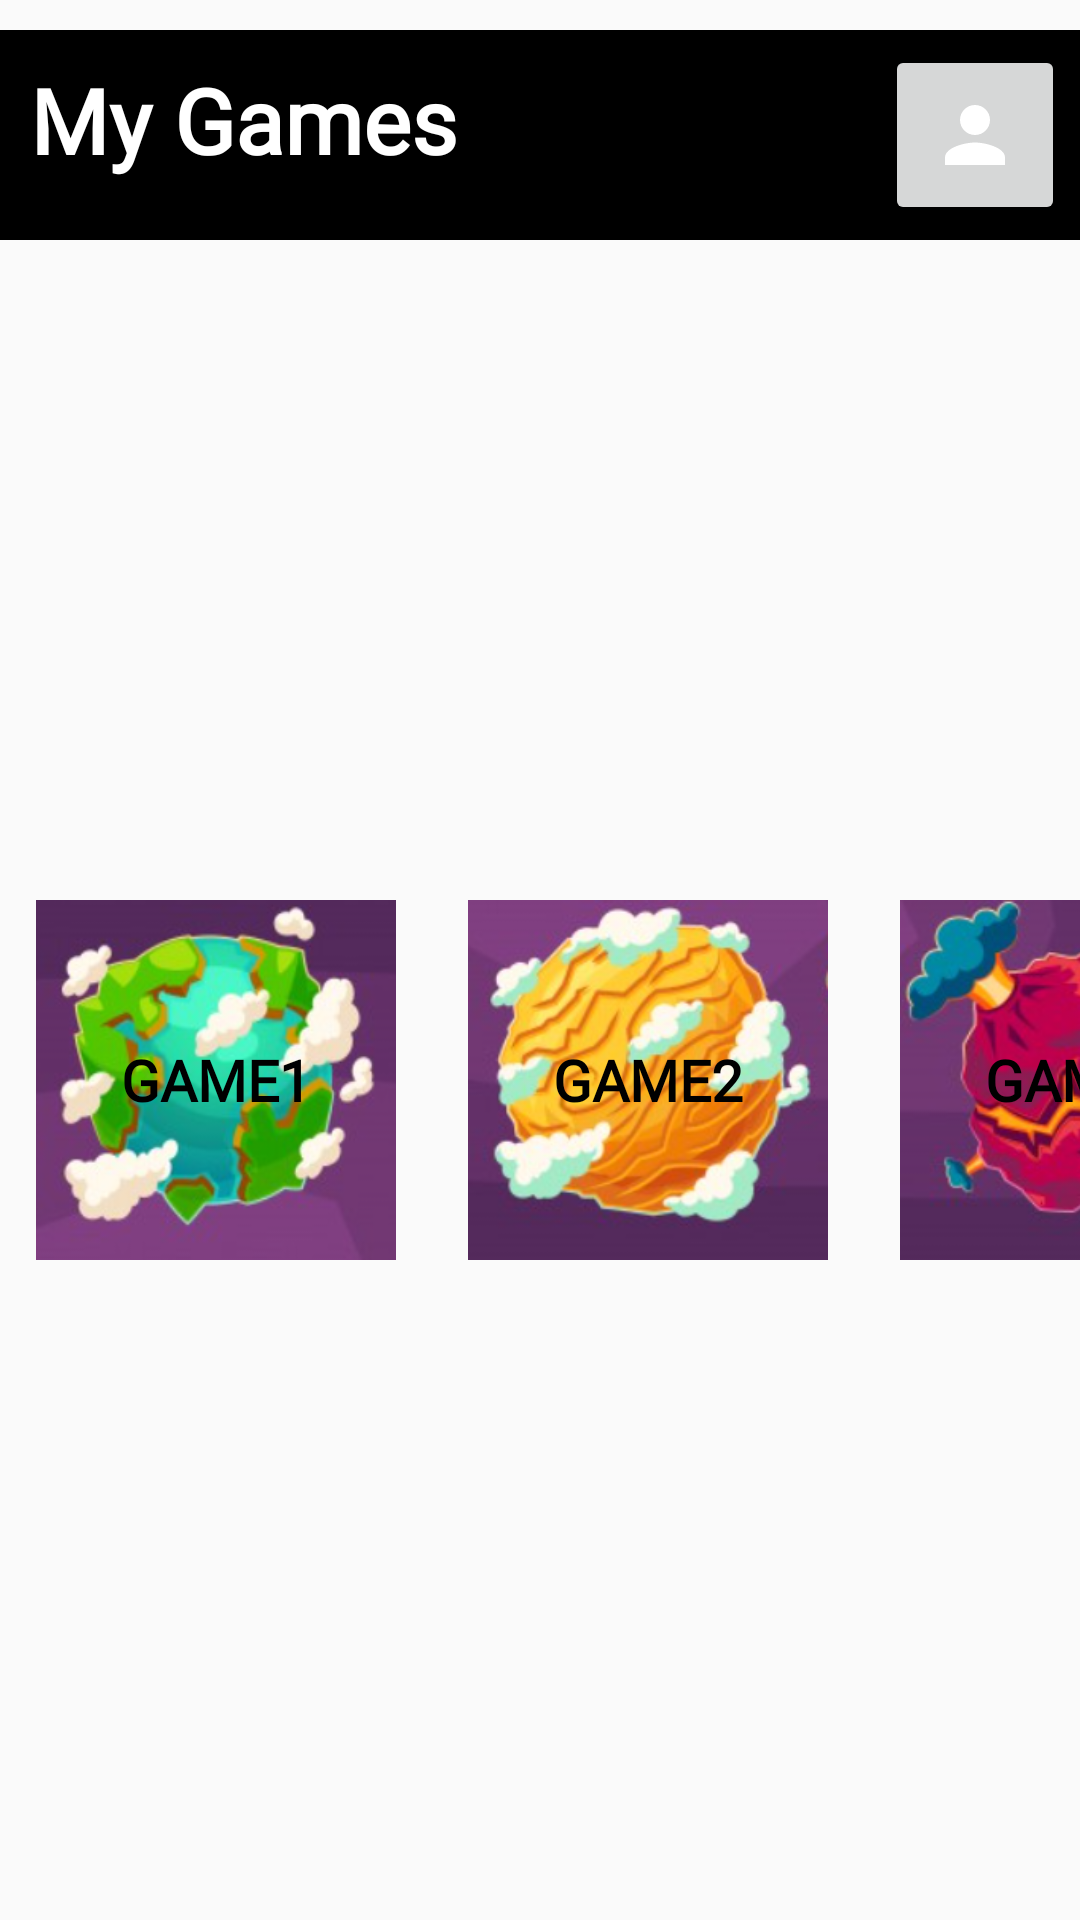

Screen size 1080px×1920px. Icon name, then its box in pixels as bbox(x1, y1, x2, y2):
person: bbox(897, 63, 1053, 207)
